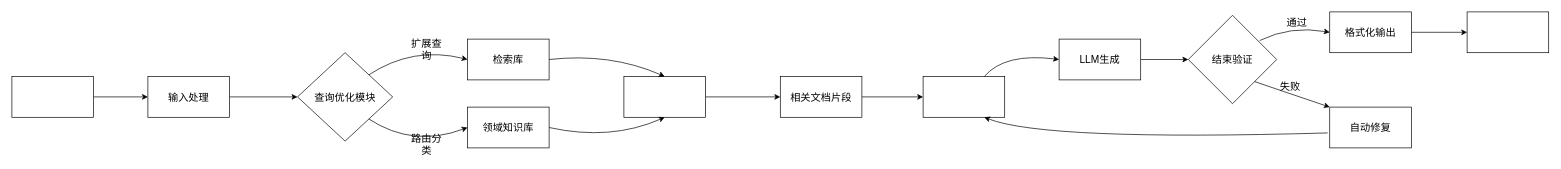
Image size: 1561x169. Some labels were removed from this diagram. The shapes that lost their labels are listed below. From the top down, each one's centre as x and y in pixels, then its label:
point (1507, 32): 业务系统
point (52, 96): 用户输入
point (664, 96): 向量数据库
point (963, 96): Prompt工程
